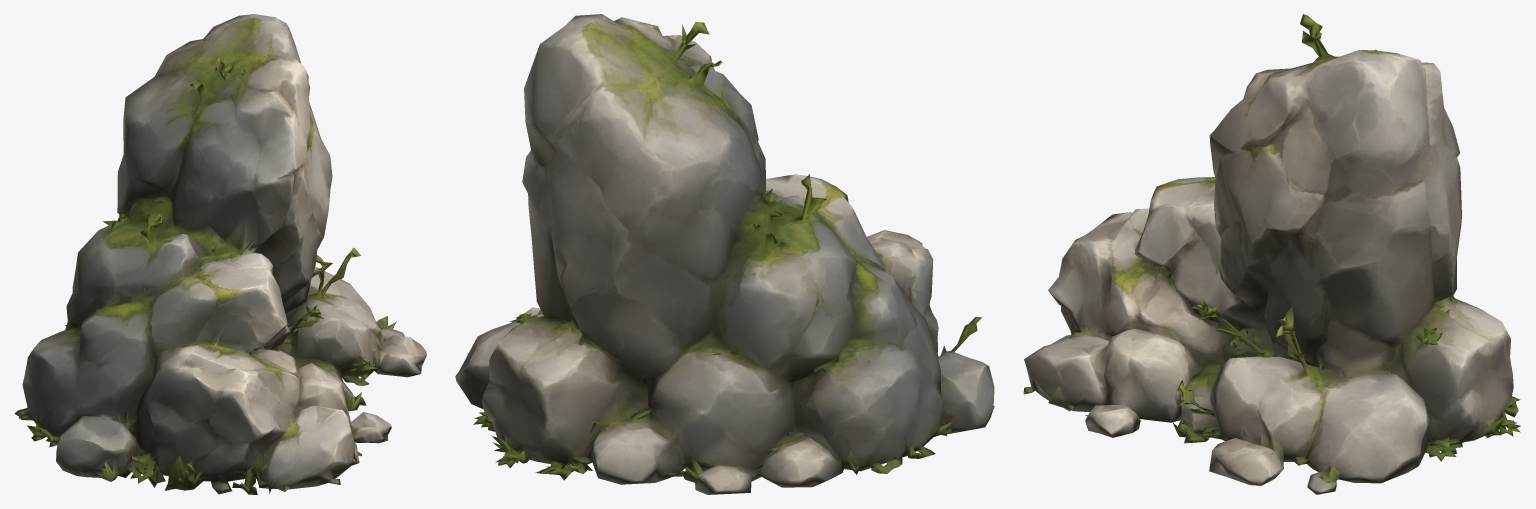
3 views of the same model, side by side, from view 1: azimuth 30°, elevation 25°; view 2: azimuth 150°, elevation 25°; view 3: azimuth 270°, elevation 25° (orthographic). The views are drawn at different scales.
Parts seen in each view (by area): view 1: tripo_node_6beeaf45-6786-4736-b492-0cb9ec024f12; view 2: tripo_node_6beeaf45-6786-4736-b492-0cb9ec024f12; view 3: tripo_node_6beeaf45-6786-4736-b492-0cb9ec024f12.
Boxes of the visible parts, <box> form: tripo_node_6beeaf45-6786-4736-b492-0cb9ec024f12: <box>14,14,426,494</box>; tripo_node_6beeaf45-6786-4736-b492-0cb9ec024f12: <box>455,14,994,494</box>; tripo_node_6beeaf45-6786-4736-b492-0cb9ec024f12: <box>1023,14,1520,494</box>.
Size of the model in its own units: 0.9757 by 0.8103 by 0.9393.
Materials: 1 (1 with a texture image).
